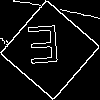E: (25, 25, 62, 73)
